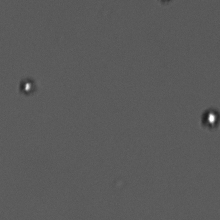Living Cell: (201, 108, 219, 128), (19, 78, 36, 96)
